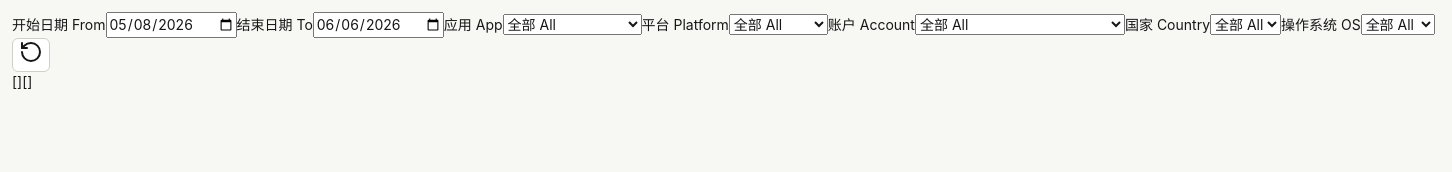
GlobalFilters › maps platform selection to a singleton context array
This screenshot has width=1452, height=172.
Select "Meta Ads" in the dropdown labelled "平台 Platform" at (778, 24), box [729, 14, 828, 35]
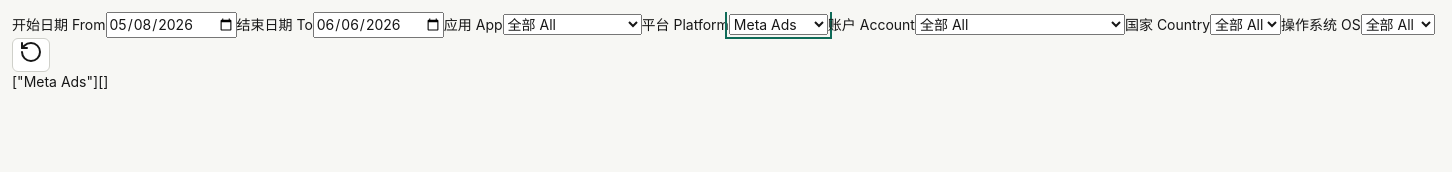
expect the text named "selected platforms" reads "[\"Meta Ads\"]": met, box [12, 73, 98, 90]
